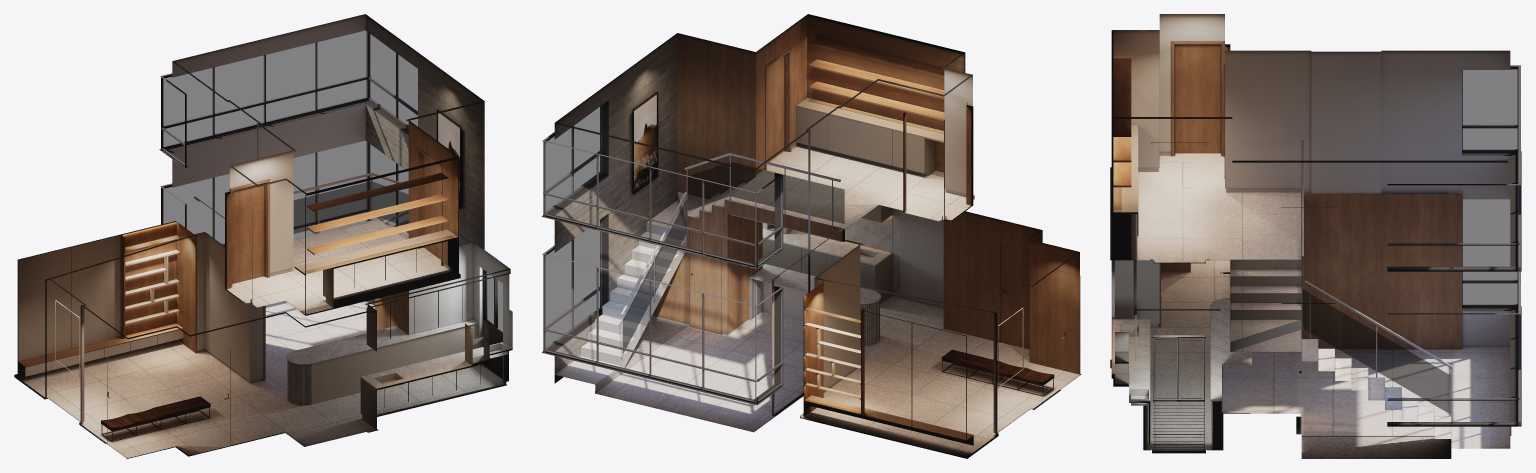
File: duplex.glb
3 views of the same model, side by side, from view 1: azimuth 30°, elevation 25°; view 2: azimuth 150°, elevation 25°; view 3: azimuth 270°, elevation 25° (orthographic). The views are drawn at different scales.
Visible parts, largest first — view 1: Box029_0, Floor_1, Box034_1, Floor_2, Platform_Marble, Box037_2; view 2: Box029_0, Floor_1, Floor_2, Box034_1, Box037_2, Stairs, Platform_Marble, Floor_1_UnderStair; view 3: Box029_0, Floor_1, Floor_2, Box034_1, Stairs, Box037_2, Platform_Marble, Floor_1_UnderStair.
Boxes of the visible parts, box(x1,y1,x2,y2) form: Box029_0: box(14, 14, 512, 446); Floor_1: box(14, 301, 506, 458); Box034_1: box(163, 30, 502, 332); Floor_2: box(225, 219, 454, 315); Platform_Marble: box(286, 319, 512, 389); Box037_2: box(293, 181, 408, 233); Box029_0: box(541, 14, 1080, 445); Floor_1: box(595, 298, 1081, 458); Floor_2: box(725, 144, 973, 228); Box034_1: box(543, 107, 600, 351); Box037_2: box(623, 162, 844, 353); Stairs: box(555, 182, 746, 384); Platform_Marble: box(750, 215, 892, 304); Floor_1_UnderStair: box(621, 318, 685, 373); Box029_0: box(1110, 14, 1521, 453); Floor_1: box(1143, 259, 1511, 450); Floor_2: box(1110, 153, 1301, 263); Box034_1: box(1462, 69, 1517, 303); Stairs: box(1230, 269, 1510, 448); Box037_2: box(1303, 290, 1449, 412); Platform_Marble: box(1111, 298, 1251, 405); Floor_1_UnderStair: box(1301, 436, 1451, 458).
Bounding box in the file's own units: 8.77 × 5.53 × 6.92.
Materials: 3 (1 with a texture image).
